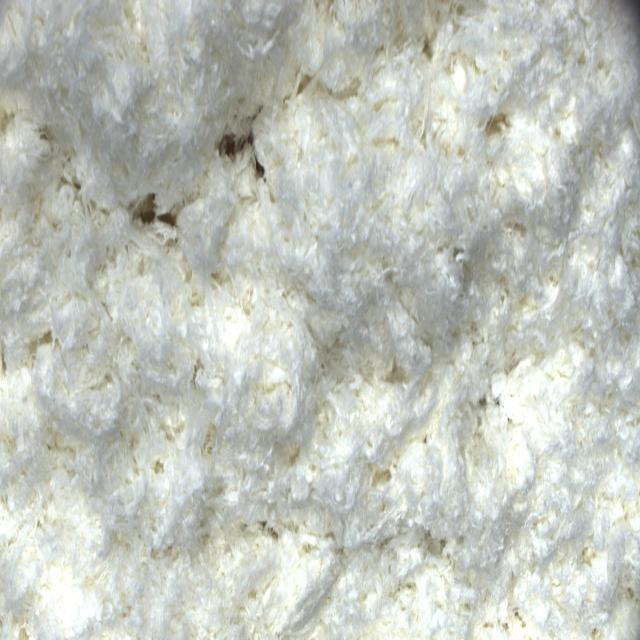dust: (216, 117, 267, 185), (133, 196, 178, 234)
